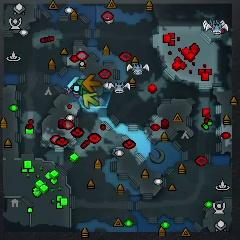x1: (65, 90, 80, 98)
x2: (83, 92, 100, 109)
x3: (66, 76, 80, 93)
x4: (77, 79, 88, 95)
x5: (82, 74, 102, 92)
